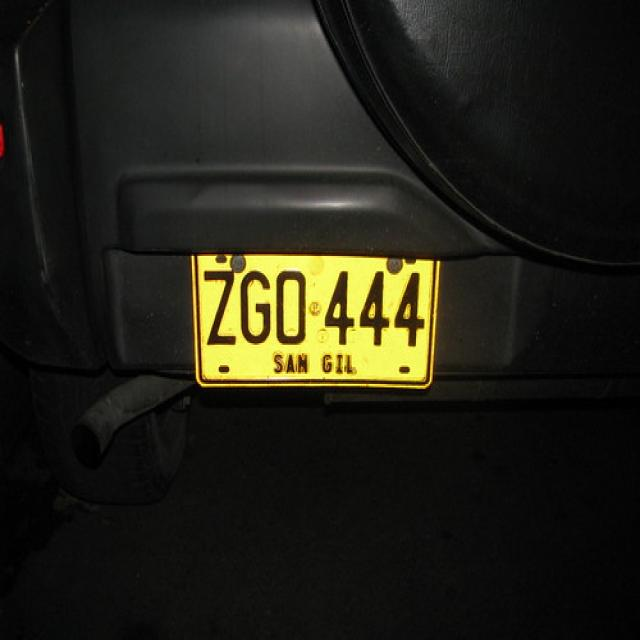placas: (195, 258, 438, 353)
